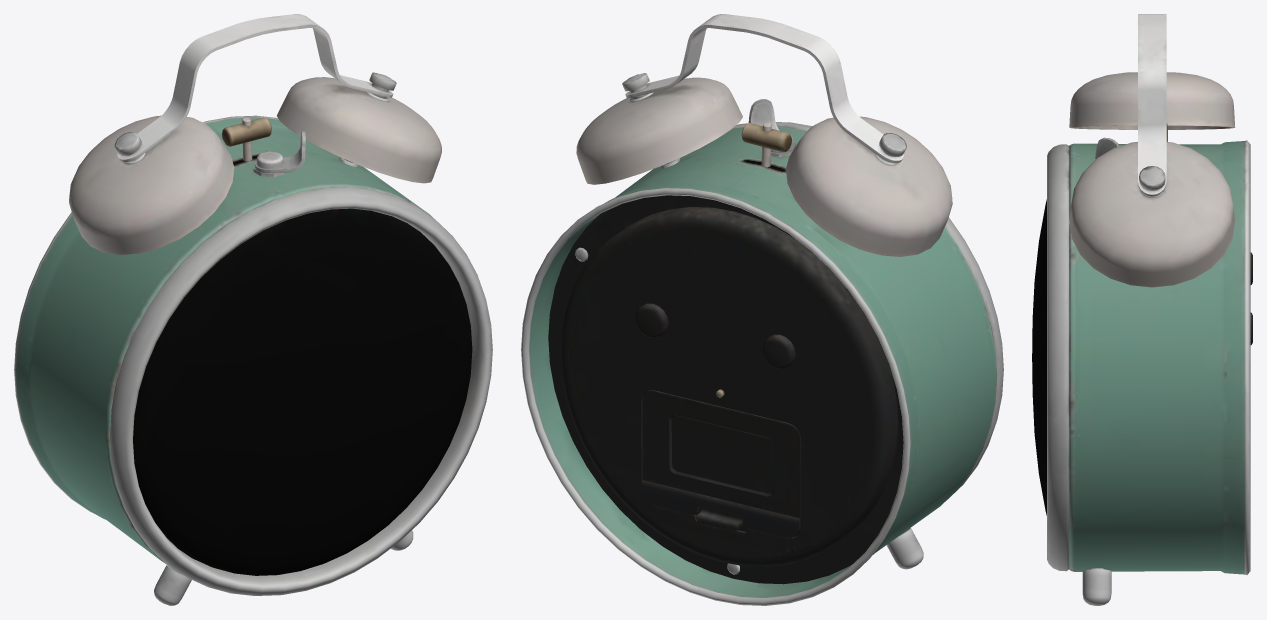
Rendered from alarm_clock_01.glb.
3 renders of one model, left to right at view 1: azimuth 30°, elevation 25°; view 2: azimuth 150°, elevation 25°; view 3: azimuth 270°, elevation 25°, orthographic. The views are drawn at different scales.
Visible parts, largest first — view 1: alarm_clock_01; view 2: alarm_clock_01; view 3: alarm_clock_01.
Part boxes in pixels (x1,y1,x2,y2): alarm_clock_01: [14, 14, 492, 605]; alarm_clock_01: [521, 14, 1003, 605]; alarm_clock_01: [1032, 14, 1252, 605].
Bounding box in the file's own units: 0.1317 × 0.1742 × 0.0667.
Materials: 2 (2 with a texture image).
